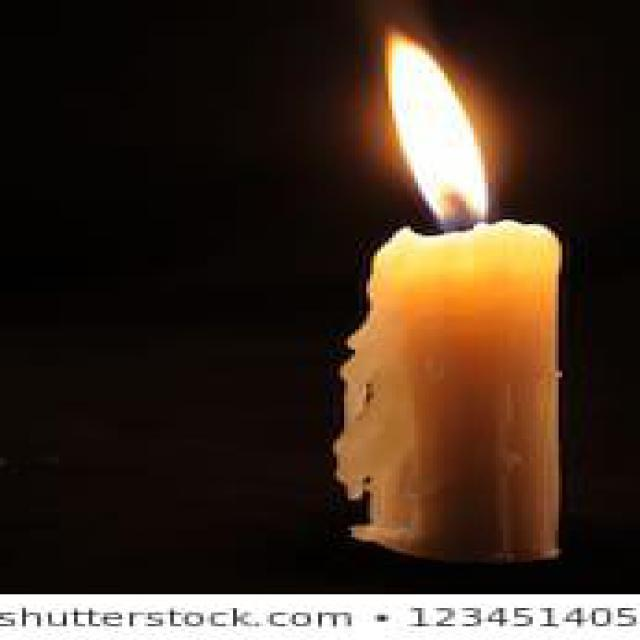Fire: (382, 29, 490, 232)
